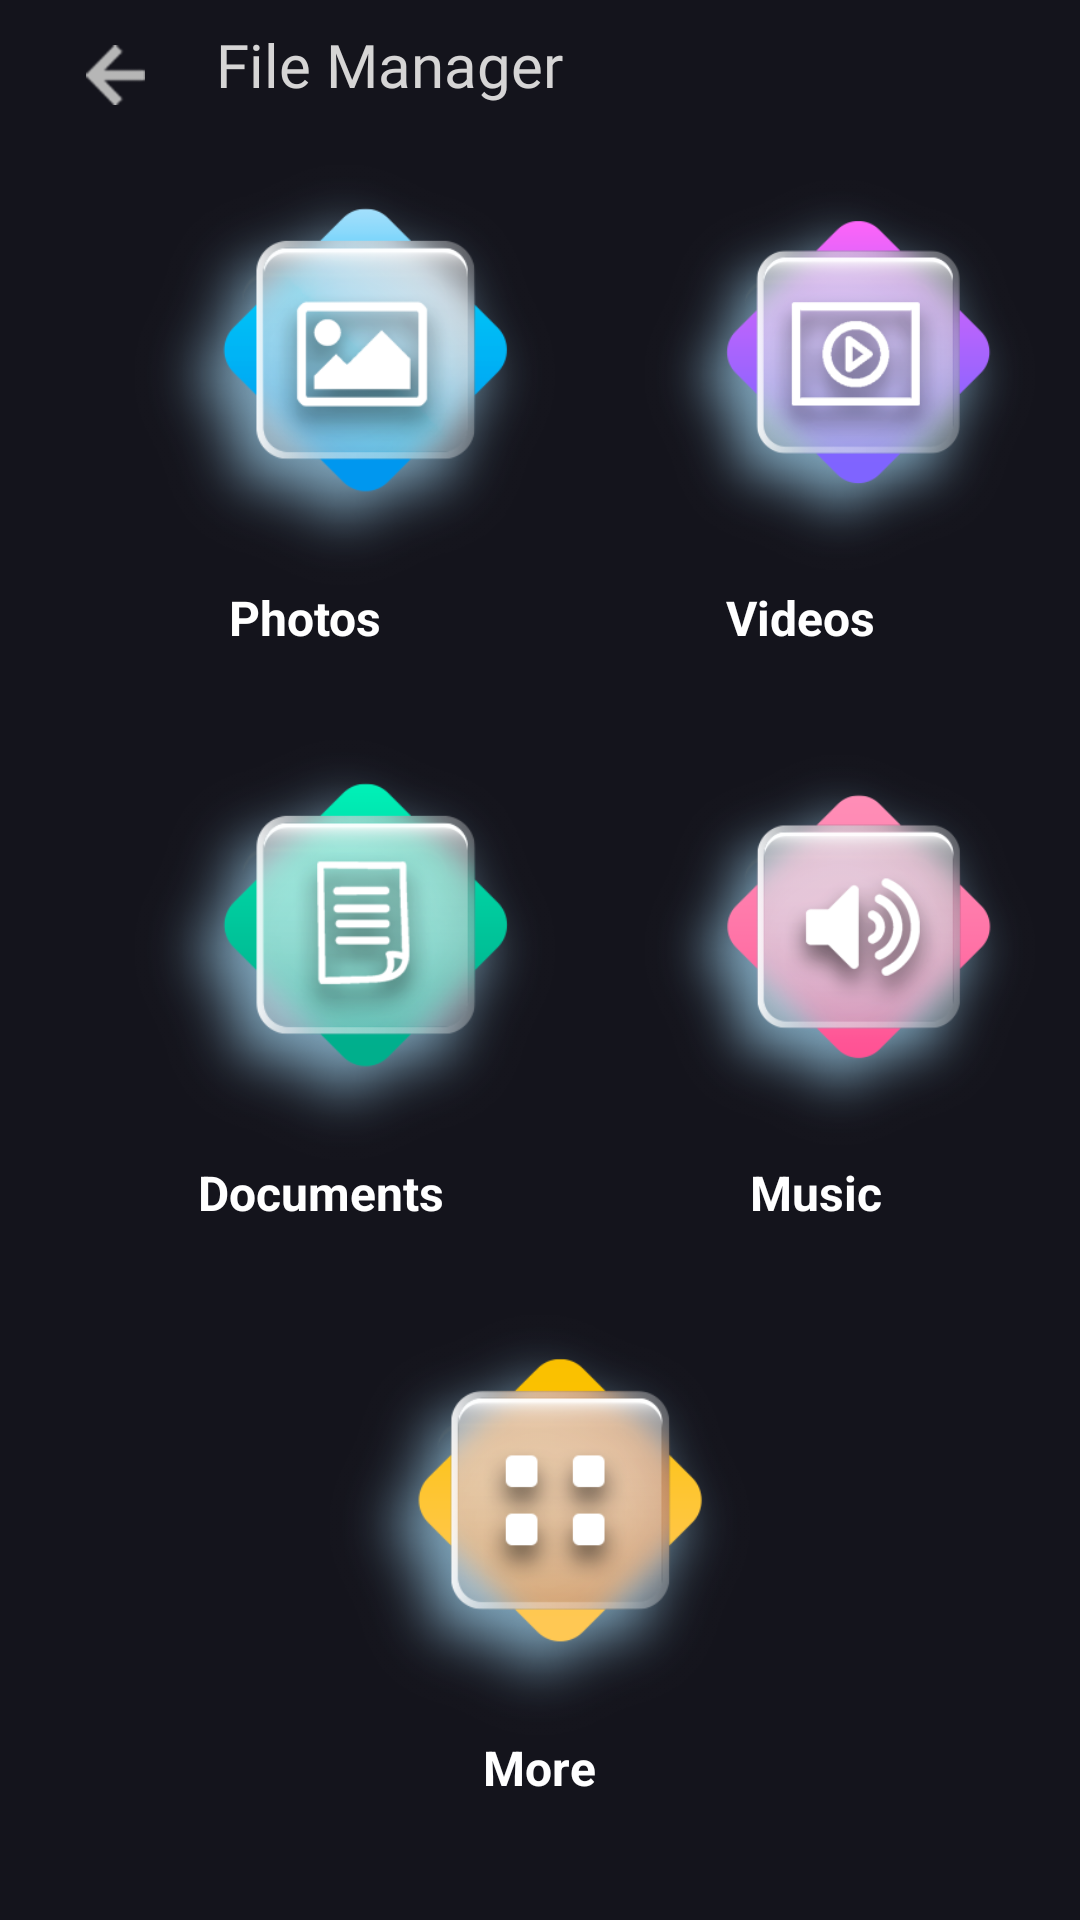

Icons on this 1080 × 1920 Android screen, each with its box as (x1, y1, x2, y2):
arrow: (86, 45, 145, 105)
sound: (689, 795, 991, 1101)
